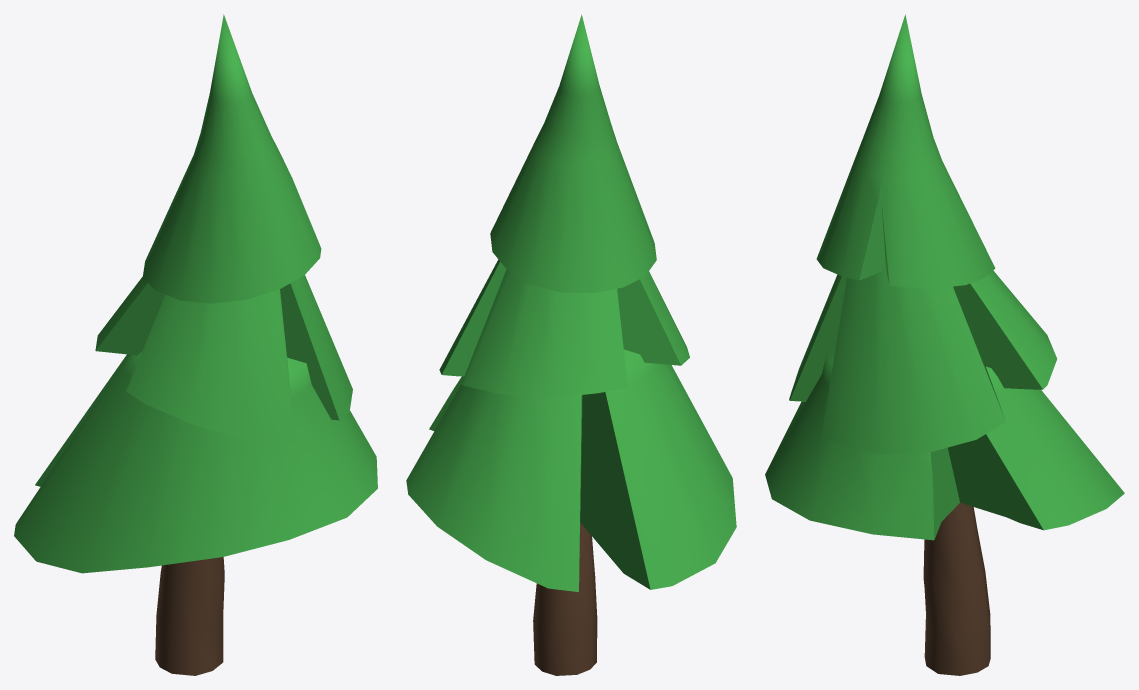
File: WF_PCGTree.07.glb
The picture shows the model from 3 angles, left to right: view 1: azimuth 30°, elevation 25°; view 2: azimuth 150°, elevation 25°; view 3: azimuth 270°, elevation 25°; orthographic projection. The views are drawn at different scales.
Parts seen in each view (by area): view 1: Tree.07; view 2: Tree.07; view 3: Tree.07.
Boxes of the visible parts, box(x1,y1,x2,y2) form: Tree.07: box(14, 14, 377, 675); Tree.07: box(406, 14, 736, 675); Tree.07: box(765, 14, 1124, 675).
Size of the model in its own units: 0.8096 by 1.65 by 0.8252.
